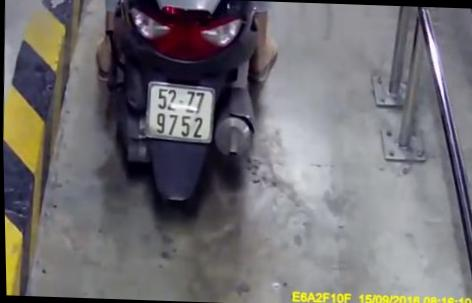LP: (142, 78, 218, 146)
